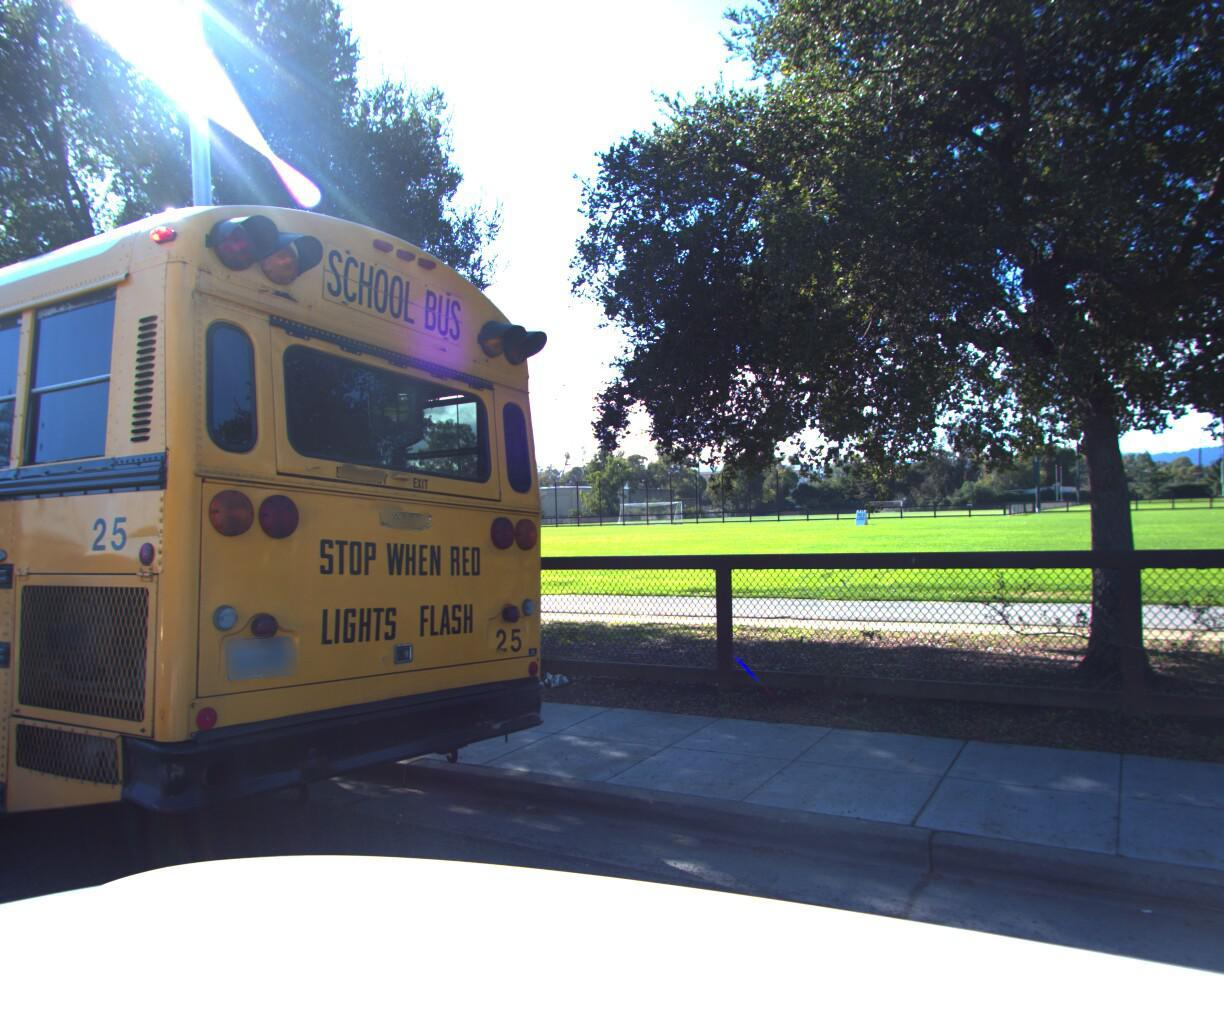bus: (0, 92, 589, 1024)
